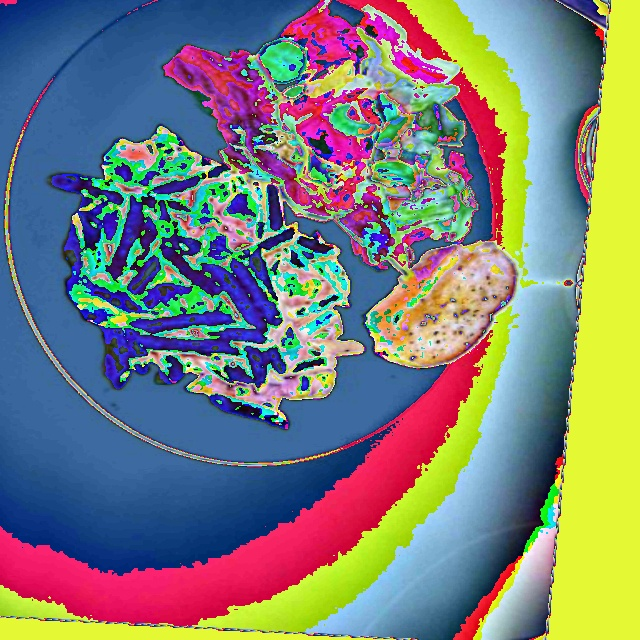background: (50, 0, 519, 429)
